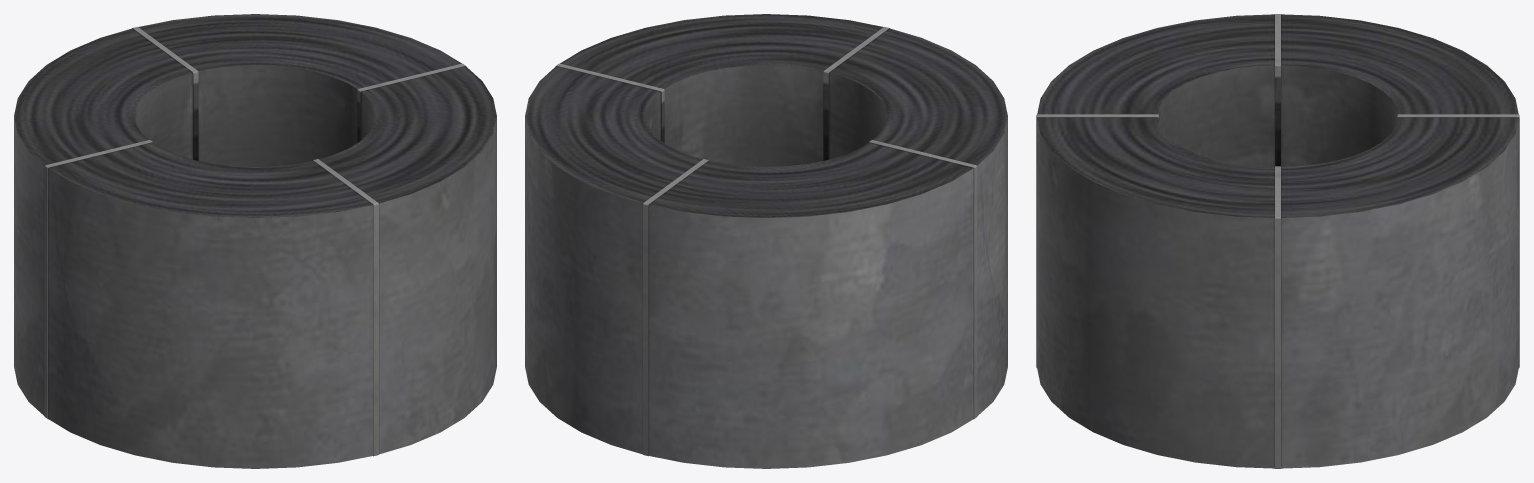
File: CoilCenter.glb
3 renders of one model, left to right at view 1: azimuth 30°, elevation 25°; view 2: azimuth 150°, elevation 25°; view 3: azimuth 270°, elevation 25°, orthographic.
Parts seen in each view (by area): view 1: Torus003; view 2: Torus003; view 3: Torus003.
Boxes of the visible parts, bbox=[...] form: Torus003: bbox=[14, 14, 496, 468]; Torus003: bbox=[525, 14, 1007, 468]; Torus003: bbox=[1036, 14, 1519, 468].
Size of the model in its own units: 0.4554 by 0.2619 by 0.4554.
Materials: 1 (1 with a texture image).
